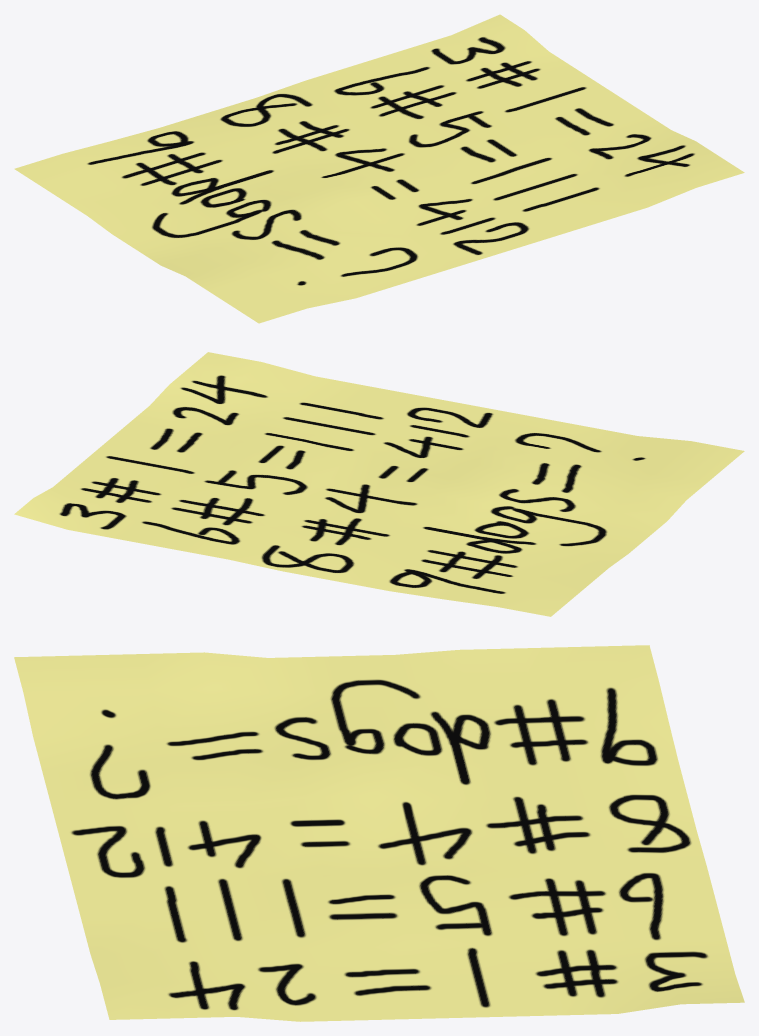
File: puzzlePaper.glb
3 views of the same model, one above another, from view 1: azimuth 30°, elevation 25°; view 2: azimuth 150°, elevation 25°; view 3: azimuth 270°, elevation 25° (orthographic). The views are drawn at different scales.
Parts seen in each view (by area): view 1: Object_2; view 2: Object_2; view 3: Object_2.
Part boxes in pixels (<box>): Object_2: <box>14,14,744,323</box>; Object_2: <box>14,352,744,616</box>; Object_2: <box>14,645,744,1021</box>.
Bounding box in the file's own units: 7.86 × 0.1044 × 6.43.
1 material, 1 textured.
